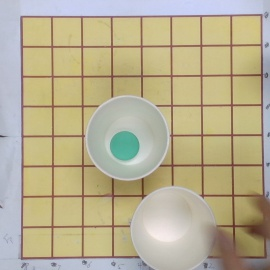cup: (130, 186, 217, 270)
cup_green: (84, 96, 170, 182)
